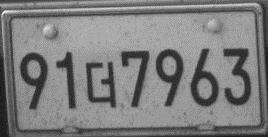1: (52, 50, 84, 109)
3: (221, 47, 252, 105)
6: (188, 46, 220, 106)
7: (120, 49, 150, 108)
9: (19, 52, 49, 110), (155, 48, 184, 108)
더: (85, 61, 118, 108)
